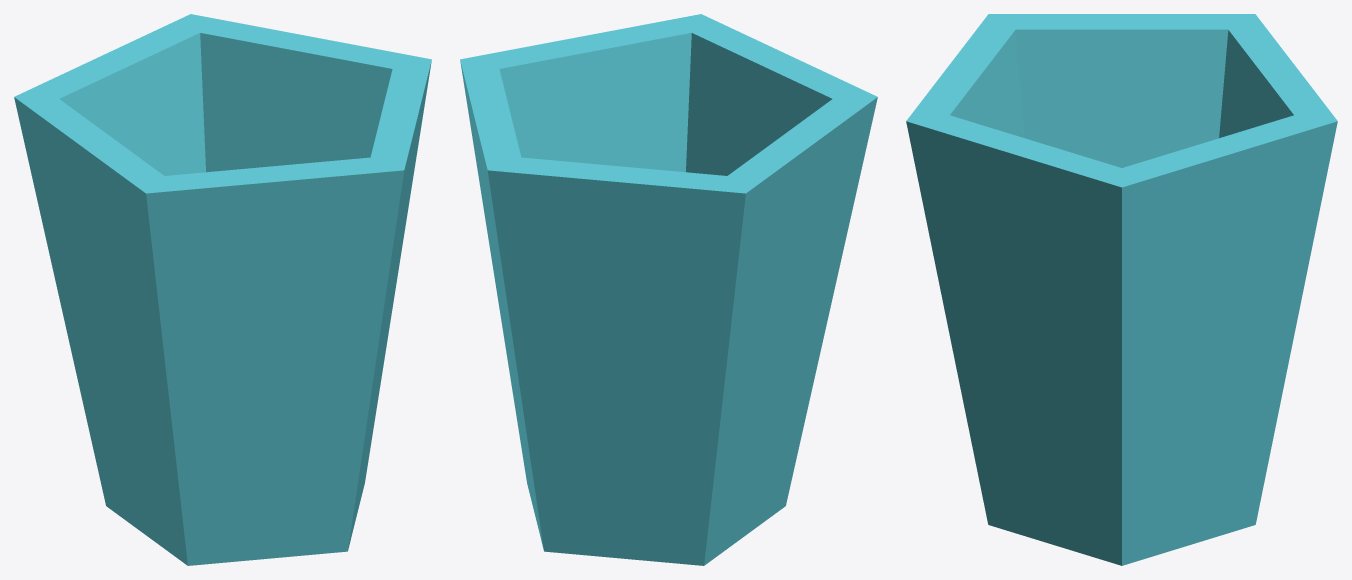
File: cup_empty_3.fbx
3 renders of one model, left to right at view 1: azimuth 30°, elevation 25°; view 2: azimuth 150°, elevation 25°; view 3: azimuth 270°, elevation 25°, orthographic.
Parts seen in each view (by area): view 1: cup_empty_3; view 2: cup_empty_3; view 3: cup_empty_3.
Boxes of the visible parts, bbox=[...] form: cup_empty_3: bbox=[14, 14, 431, 565]; cup_empty_3: bbox=[460, 14, 877, 565]; cup_empty_3: bbox=[906, 14, 1337, 565].
Bounding box in the file's own units: 0.6046 × 0.6685 × 0.6358.
